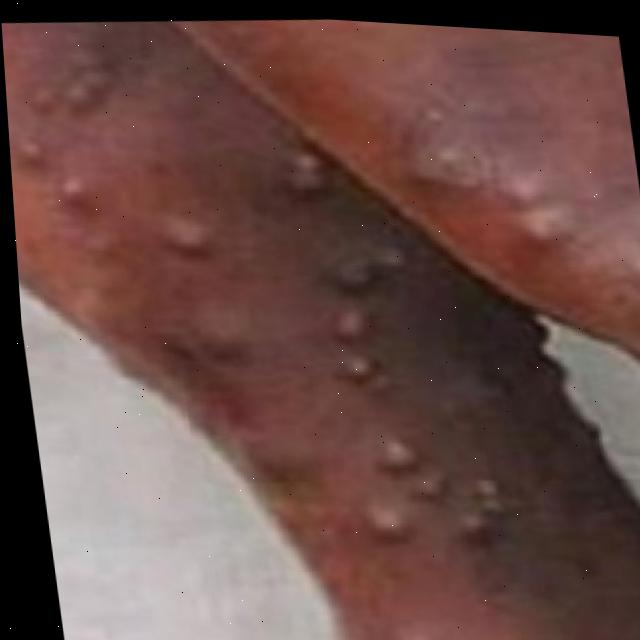Eczema: (2, 25, 640, 640)
